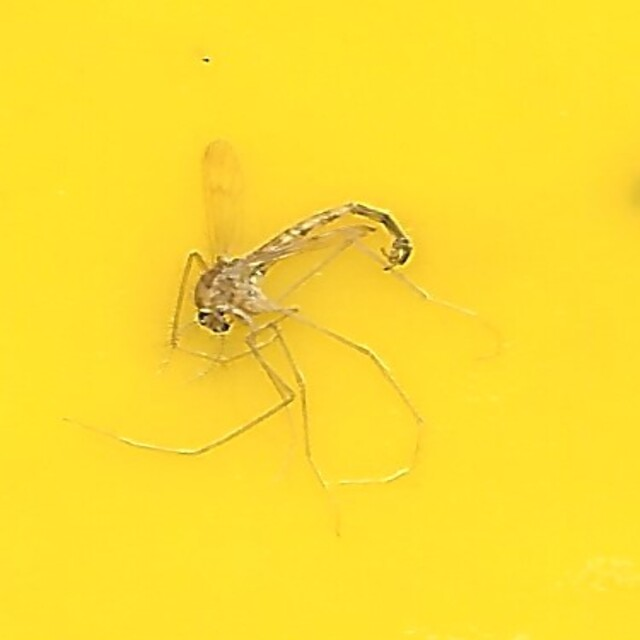Nematocera: (171, 137, 469, 503)
